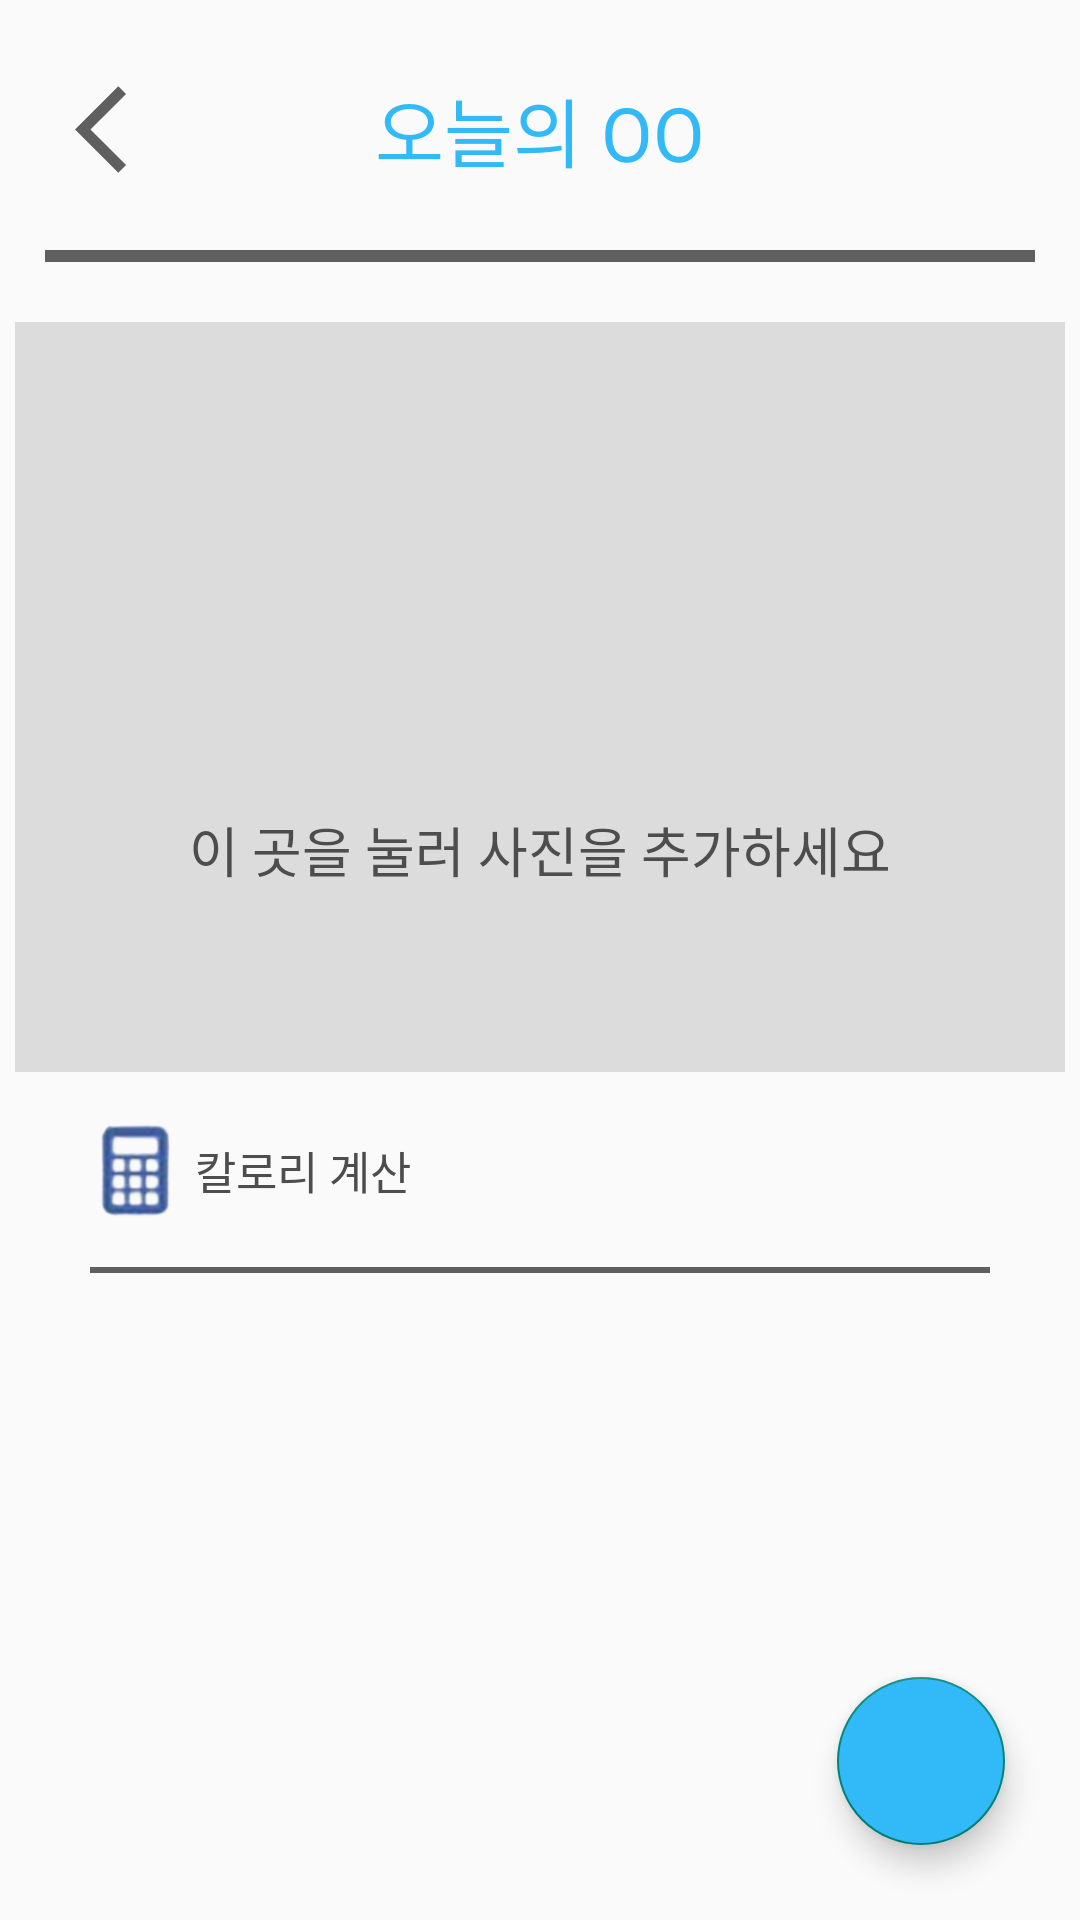

Icons on this 1080px x 1920px Android screen, each with the point to tap as (x,y):
back arrow: (100,129)
calc: (135,1170)
